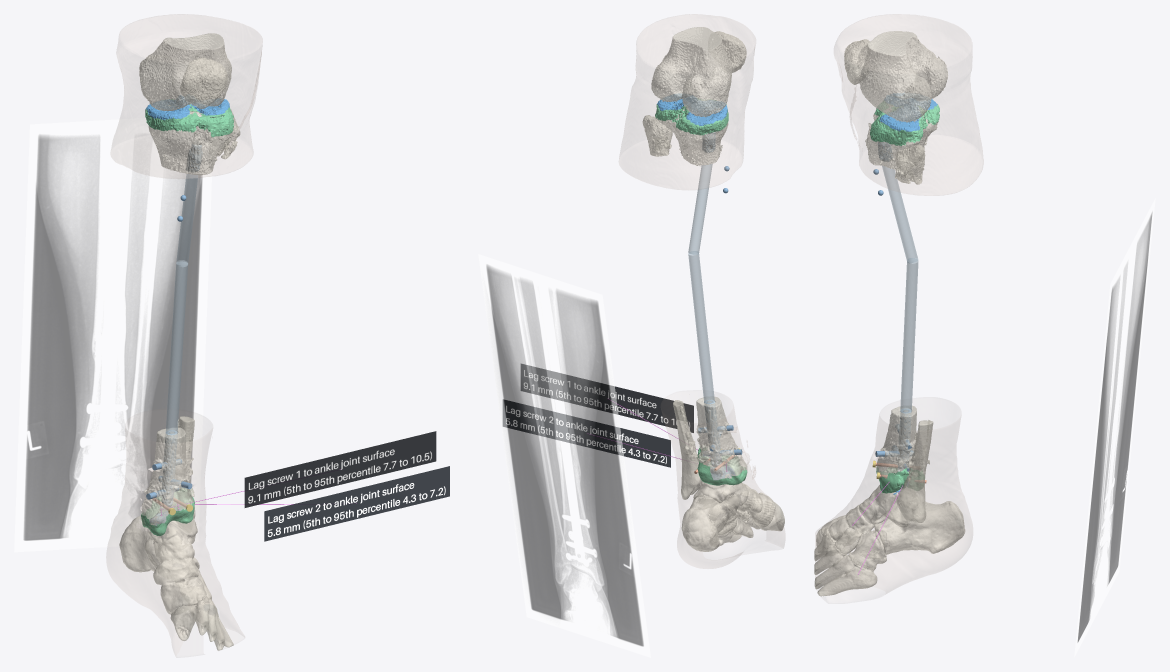
3 renders of one model, left to right at view 1: azimuth 30°, elevation 25°; view 2: azimuth 150°, elevation 25°; view 3: azimuth 270°, elevation 25°, orthographic. The views are drawn at different scales.
Visible parts, largest first — view 1: radiograph, skin, implant_8, tibia, implant_16, tarsal, femur, nail_modelled, patella, metatarsal, capsule_band_knee, nail (+3 smaller); view 2: radiograph, skin, femur, implant_17, implant_9, tibia, tarsal, nail_modelled, fibula, metatarsal, articular_surface_knee, capsule_band_knee (+3 smaller); view 3: skin, radiograph, tarsal, femur, tibia, fibula, nail_modelled, metatarsal, capsule_band_knee, articular_surface_knee, nail, patella (+1 smaller).
Part boxes in pixels (box(x1,y1,x2,y2)): radiograph: box(14, 118, 211, 552); skin: box(106, 14, 262, 655); implant_8: box(244, 431, 436, 507); tibia: box(141, 107, 231, 535); implant_16: box(264, 466, 449, 541); tarsal: box(119, 512, 211, 614); femur: box(139, 33, 231, 111); nail_modelled: box(165, 174, 197, 434); patella: box(180, 57, 227, 108); metatarsal: box(170, 597, 233, 650); capsule_band_knee: box(145, 99, 233, 137); nail: box(161, 144, 202, 506); radiograph: box(478, 254, 650, 657); skin: box(619, 14, 784, 568); femur: box(651, 27, 731, 117); implant_17: box(503, 399, 670, 467); implant_9: box(521, 364, 693, 432); tibia: box(655, 104, 747, 484); tarsal: box(681, 467, 775, 551); nail_modelled: box(688, 164, 714, 404); fibula: box(642, 115, 701, 499); metatarsal: box(718, 499, 784, 546); articular_surface_knee: box(657, 94, 727, 125); capsule_band_knee: box(655, 99, 728, 135); skin: box(815, 14, 983, 593); radiograph: box(1074, 198, 1155, 656); tarsal: box(821, 485, 965, 570); femur: box(859, 31, 948, 122); tibia: box(865, 114, 938, 493); fibula: box(895, 144, 933, 522); nail_modelled: box(882, 166, 918, 412); metatarsal: box(814, 528, 877, 596); capsule_band_knee: box(870, 101, 939, 146); articular_surface_knee: box(879, 93, 937, 131); nail: box(878, 142, 911, 471); patella: box(844, 39, 870, 84).
Bounding box in the file's own units: 0.2891 × 0.5492 × 0.2966.
15 materials, 3 textured.
